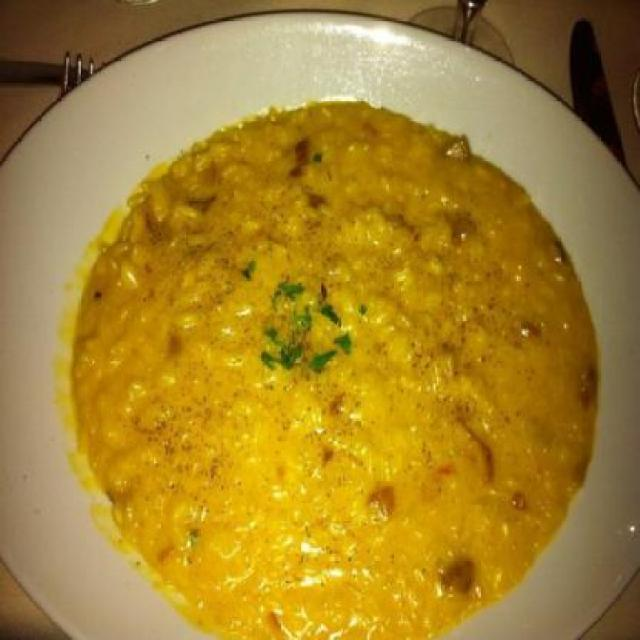Risotto: (60, 107, 578, 636)
